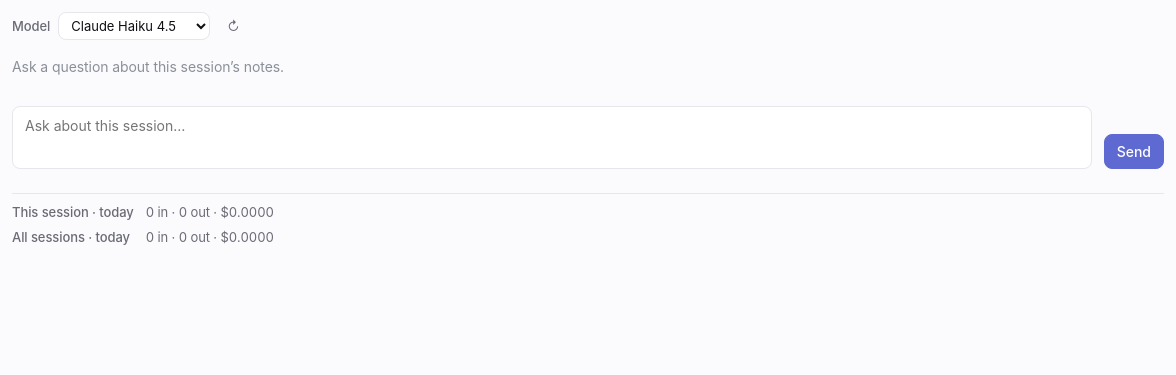
Test case: ChatPanel › shows which model answered on a finalized reply
Type "What did we decide?" into the text box named "Ask Claude about this session". click: (552, 138)
box: [12,106,1092,169]
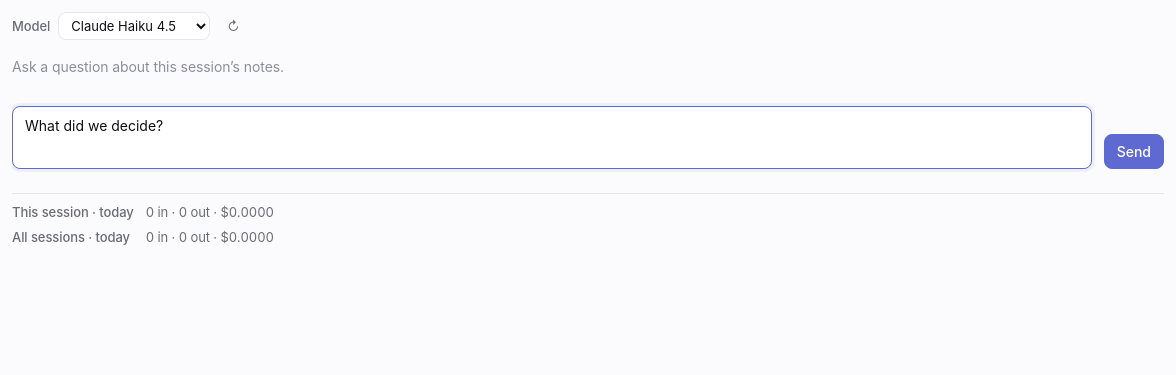
Click the button with aria-label "Send message". click: (1134, 152)
box: [1104,134,1164,169]
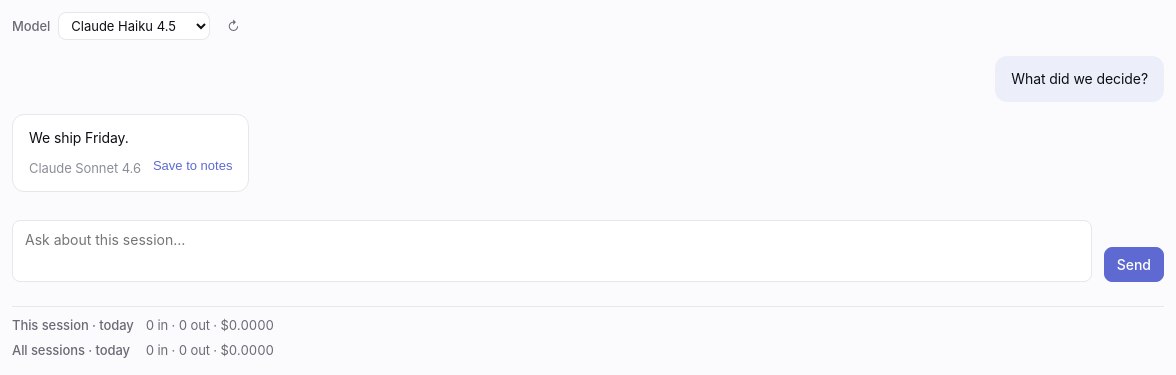
Result: the text "Claude Sonnet 4.6" is shown at [29,158,141,179]
